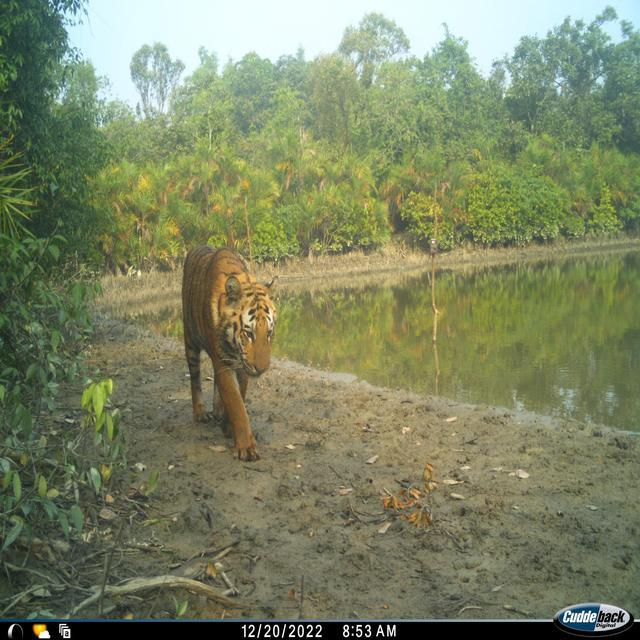tiger: (180, 243, 278, 461)
